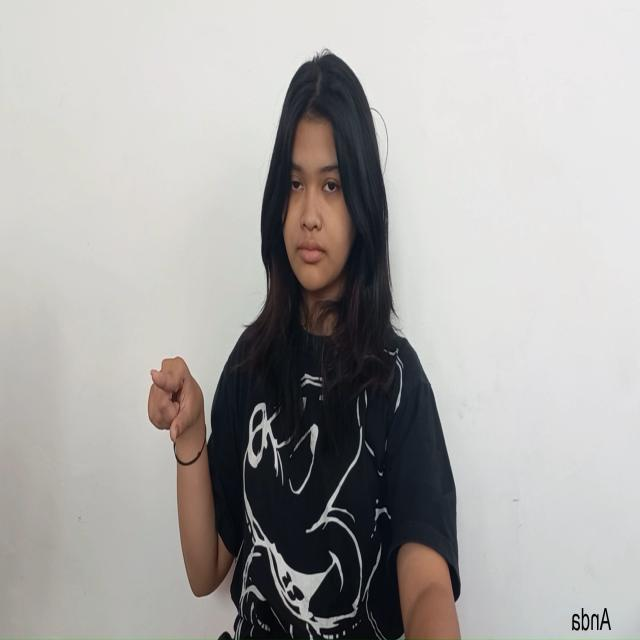Anda -BISINDO-: (146, 351, 207, 452)
